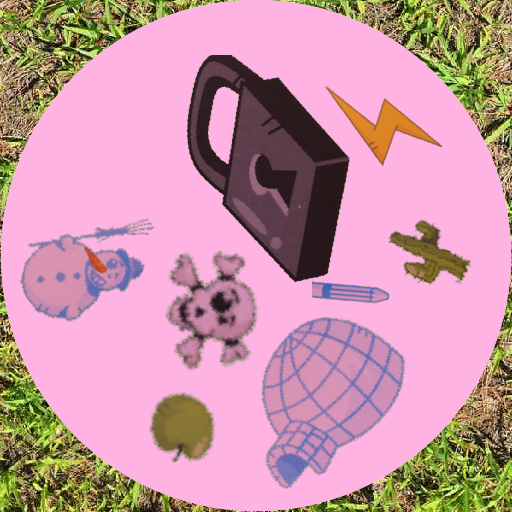apple_icon: (149, 389, 224, 464)
cactus_icon: (384, 211, 475, 302)
igloo_icon: (229, 313, 418, 502)
lightning_icon: (318, 59, 442, 183)
lock_icon: (151, 55, 381, 285)
pen_icon: (312, 255, 389, 332)
skull_icon: (146, 245, 282, 381)
snowman_icon: (16, 187, 161, 332)
